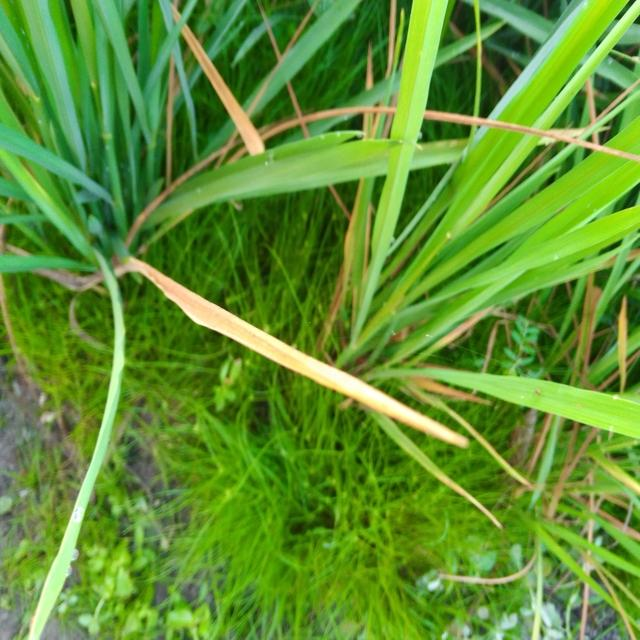Brown spot: (91, 232, 486, 496), (147, 45, 640, 186)
